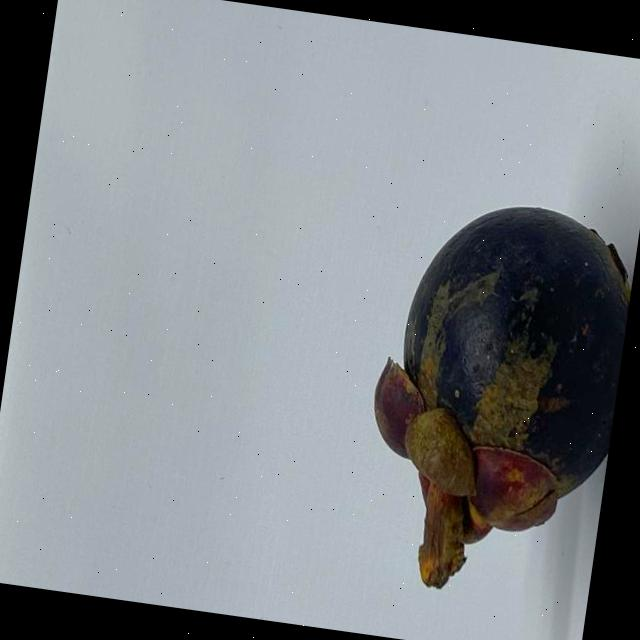mangosteen: (281, 116, 640, 604)
